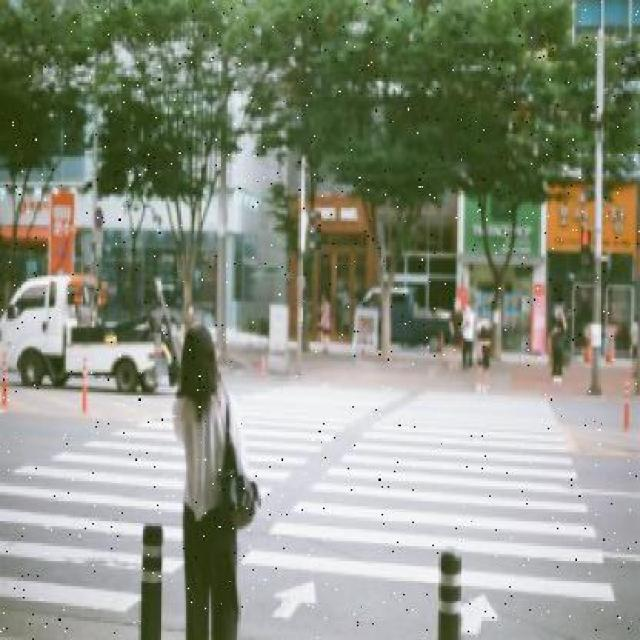Person: (175, 320, 240, 638)
